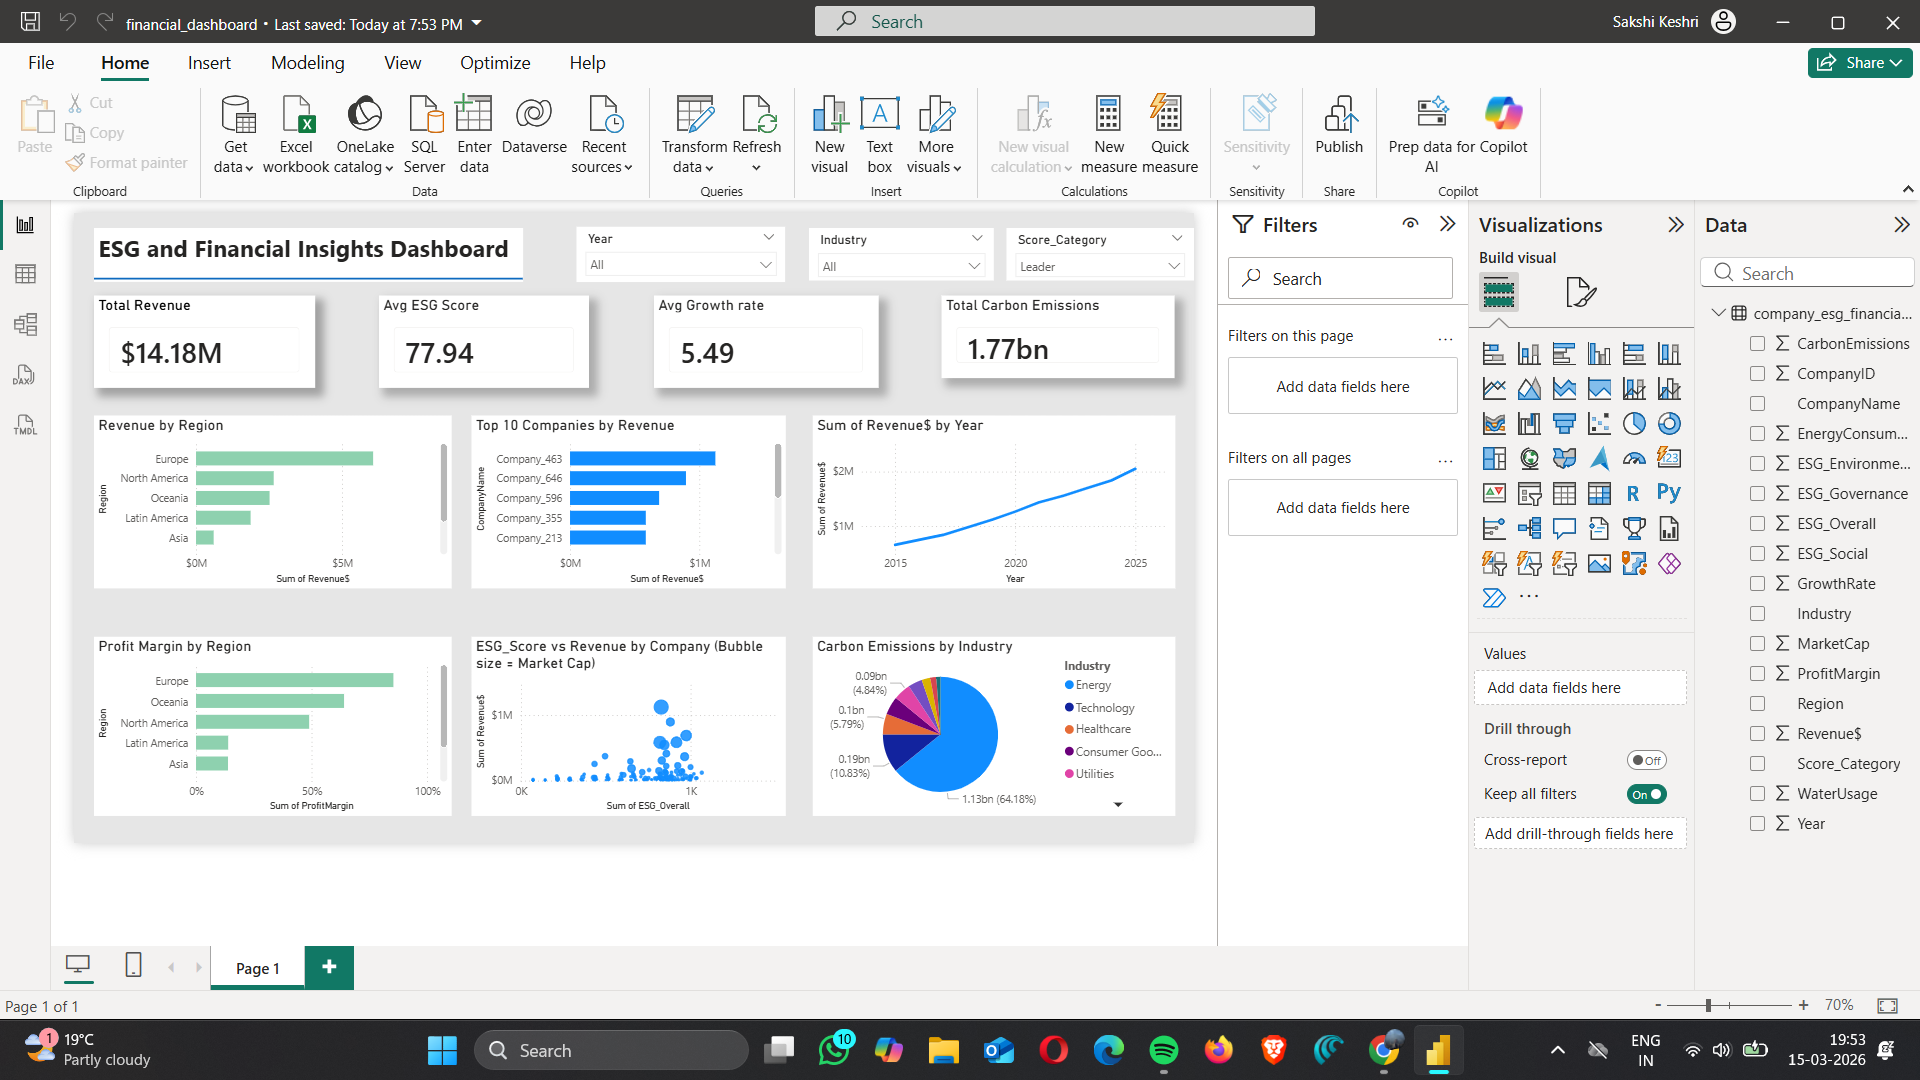

Layout of this report page (visuals, bound fields, positions):
{"tool":"powerbi","page":{"name":"Page 1","canvas":[1280,720],"ordinal":0},"visuals":[{"type":"clusteredBarChart","title":"Revenue by Region","fields":{"Category":["company_esg_financial_dataset.Region"],"Y":["Sum(company_esg_financial_dataset.Revenue$)"]},"box":[23.3,231.9,408.9,197.6],"z":0},{"type":"cardVisual","title":"Total Revenue","fields":{"Data":["Sum(company_esg_financial_dataset.Revenue$)"]},"box":[23.3,94.7,252.5,105.7],"z":1000},{"type":"cardVisual","title":"Avg ESG Score","fields":{"Data":["Avg(company_esg_financial_dataset.ESG_Overall)"]},"box":[348.5,94.7,240.1,105.7],"z":2000},{"type":"clusteredBarChart","title":"Profit Margin by Region","fields":{"Category":["company_esg_financial_dataset.Region"],"Y":["Sum(company_esg_financial_dataset.ProfitMargin)"]},"box":[23.3,484.4,408.9,204.5],"z":3000},{"type":"slicer","fields":{"Values":["company_esg_financial_dataset.Score_Category"]},"box":[1066.2,17.8,214.1,60.4],"z":4000},{"type":"lineChart","fields":{"Category":["company_esg_financial_dataset.Year"],"Y":["Sum(company_esg_financial_dataset.Revenue$)"]},"box":[843.9,231.9,414.4,197.6],"z":5000},{"type":"pieChart","title":" Carbon Emissions by Industry","fields":{"Category":["company_esg_financial_dataset.Industry"],"Y":["Sum(company_esg_financial_dataset.CarbonEmissions)"]},"box":[843.9,484.4,414.4,204.5],"z":6000},{"type":"slicer","fields":{"Values":["company_esg_financial_dataset.Industry"]},"box":[839.8,17.8,211.3,60.4],"z":7000},{"type":"cardVisual","title":"Avg Growth rate","fields":{"Data":["Avg(company_esg_financial_dataset.GrowthRate)"]},"box":[662.3,94.7,256.6,105.7],"z":8000},{"type":"cardVisual","title":"Total Carbon Emissions","fields":{"Data":["Sum(company_esg_financial_dataset.CarbonEmissions)"]},"box":[992.1,94.7,266.2,94.7],"z":9000},{"type":"textbox","box":[22.9,17.1,490,61.4],"z":10000},{"type":"shape","box":[22.9,57.1,490,35.7],"z":11000},{"type":"scatterChart","title":"ESG_Score vs Revenue by Company                           (Bubble size = Market Cap)","fields":{"X":["Sum(company_esg_financial_dataset.ESG_Overall)"],"Y":["Sum(company_esg_financial_dataset.Revenue$)"],"Size":["Sum(company_esg_financial_dataset.MarketCap)"],"Category":["company_esg_financial_dataset.CompanyName"]},"box":[454.2,484.4,359.5,204.5],"z":12001},{"type":"clusteredBarChart","title":"Top 10 Companies by Revenue","fields":{"Category":["company_esg_financial_dataset.CompanyName"],"Y":["Sum(company_esg_financial_dataset.Revenue$)"]},"box":[454.2,231.9,359.5,197.6],"z":12002},{"type":"slicer","fields":{"Values":["company_esg_financial_dataset.Year"]},"box":[575,15.1,238.8,63.1],"z":12003}]}

Visuals, with their boxes on the page's 1280x720 design canvas (x1, y1, x2, y2). These are canvas units, not pixel positions in the 1920x1080 screenshot, which may show the page scaled, cropped or inside an application window:
"Revenue by Region" clusteredBarChart: bbox=[23, 232, 432, 430]
"Total Revenue" cardVisual: bbox=[23, 95, 276, 200]
"Avg ESG Score" cardVisual: bbox=[348, 95, 589, 200]
"Profit Margin by Region" clusteredBarChart: bbox=[23, 484, 432, 689]
slicer - company_esg_financial_dataset.Score_Category: bbox=[1066, 18, 1280, 78]
lineChart - company_esg_financial_dataset.Year x Sum(company_esg_financial_dataset.Revenue$): bbox=[844, 232, 1258, 430]
" Carbon Emissions by Industry" pieChart: bbox=[844, 484, 1258, 689]
slicer - company_esg_financial_dataset.Industry: bbox=[840, 18, 1051, 78]
"Avg Growth rate" cardVisual: bbox=[662, 95, 919, 200]
"Total Carbon Emissions" cardVisual: bbox=[992, 95, 1258, 189]
textbox: bbox=[23, 17, 513, 78]
shape: bbox=[23, 57, 513, 93]
"ESG_Score vs Revenue by Company                           (Bubble size = Market Cap)" scatterChart: bbox=[454, 484, 814, 689]
"Top 10 Companies by Revenue" clusteredBarChart: bbox=[454, 232, 814, 430]
slicer - company_esg_financial_dataset.Year: bbox=[575, 15, 814, 78]
